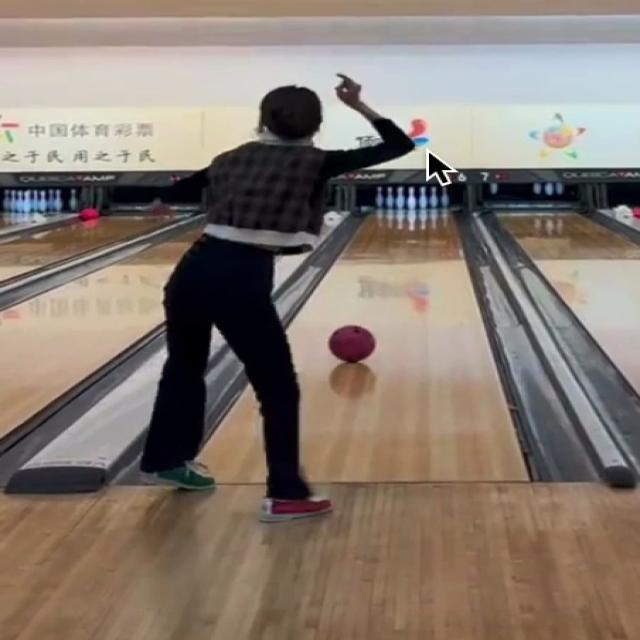alley: (286, 207, 527, 482), (201, 391, 265, 486)
balls: (327, 325, 378, 365)
bottle: (375, 185, 449, 211)
